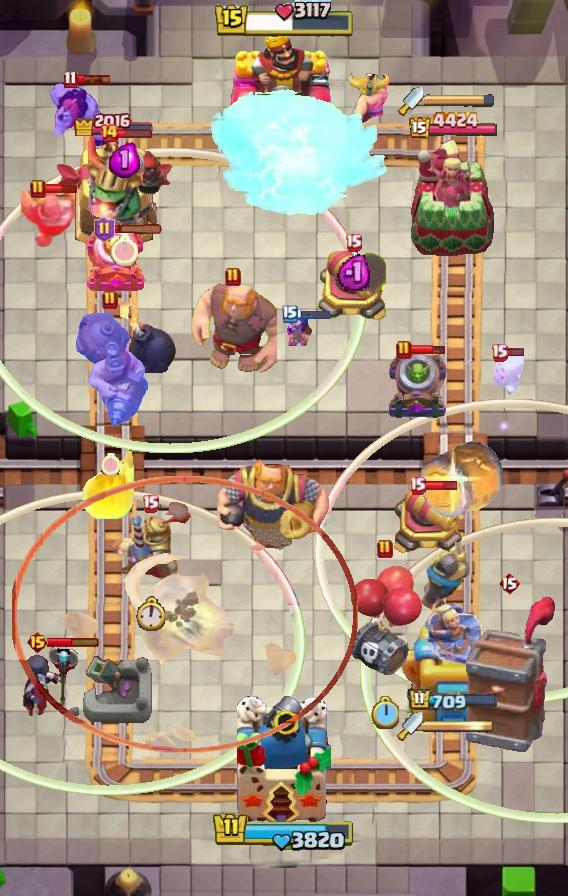baby-dragon: (117, 302, 177, 374)
balloon: (189, 279, 277, 377)
bar: (398, 595, 508, 731), (409, 138, 497, 256)
bat-evolution: (492, 349, 526, 395)
clock: (212, 811, 356, 853), (213, 0, 355, 40)
dart-goblin: (462, 595, 556, 755)
dirt: (417, 440, 505, 520)
electro-spirit: (337, 252, 370, 291), (109, 142, 139, 178)
elixir: (135, 597, 165, 631), (371, 696, 399, 728), (111, 235, 138, 266), (100, 452, 120, 476)
emote: (48, 636, 101, 648), (112, 224, 164, 235), (410, 343, 446, 357), (76, 75, 112, 86), (117, 129, 153, 140), (295, 308, 331, 319), (422, 481, 458, 492), (44, 182, 78, 193), (507, 347, 526, 357)
firecracker: (21, 185, 85, 251), (420, 542, 471, 612)
giant-skeleton: (215, 454, 331, 554)
goblin: (285, 312, 312, 346)
goblin-cage: (84, 225, 148, 295), (385, 351, 449, 421)
goblin-giant: (346, 72, 390, 128)
king-tower: (228, 29, 340, 181), (237, 696, 331, 826)
king-tower-bar: (424, 93, 496, 107), (423, 719, 495, 733)
mega-knight: (206, 86, 390, 222)
night-witch: (83, 129, 165, 223)
rage: (48, 83, 112, 149)
ram-rider: (109, 509, 191, 589)
rascal-boy: (22, 644, 82, 720)
royal-ghost: (12, 476, 358, 753)
royal-recruit: (389, 482, 467, 558), (317, 251, 389, 325)
royal-recruit-evolution: (346, 563, 424, 679)
selected: (409, 111, 500, 141), (409, 687, 500, 713), (73, 110, 155, 136)
text: (26, 630, 49, 654), (94, 216, 115, 242), (498, 571, 520, 595), (99, 123, 119, 143), (345, 232, 362, 251), (409, 477, 426, 496), (30, 179, 46, 199), (225, 267, 241, 287), (102, 290, 118, 310), (396, 340, 412, 360), (377, 539, 393, 559), (492, 343, 509, 361), (142, 495, 159, 513), (282, 305, 298, 323), (62, 71, 77, 90)
tower-bar: (53, 138, 175, 256)
valkyrie: (79, 451, 139, 521)
wizard: (70, 309, 150, 429)
